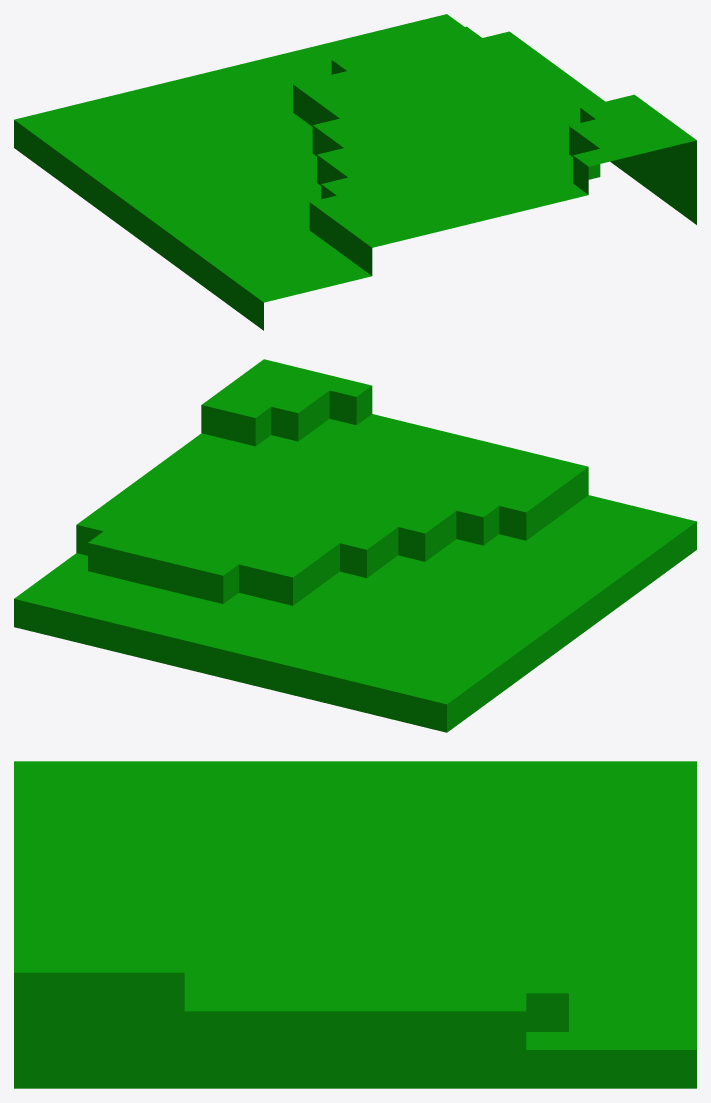
The model's file is Corner15.fbx.
3 views of the same model, one above another, from view 1: azimuth 30°, elevation 25°; view 2: azimuth 150°, elevation 25°; view 3: azimuth 270°, elevation 25° (orthographic). The views are drawn at different scales.
Parts seen in each view (by area): view 1: Matrix; view 2: Matrix; view 3: Matrix.
Part boxes in pixels (box(x1,y1,x2,y2)): Matrix: box(14, 14, 696, 330); Matrix: box(14, 359, 696, 732); Matrix: box(14, 761, 696, 1088).
Size of the model in its own units: 16 by 3 by 16.
1 material, 1 textured.
